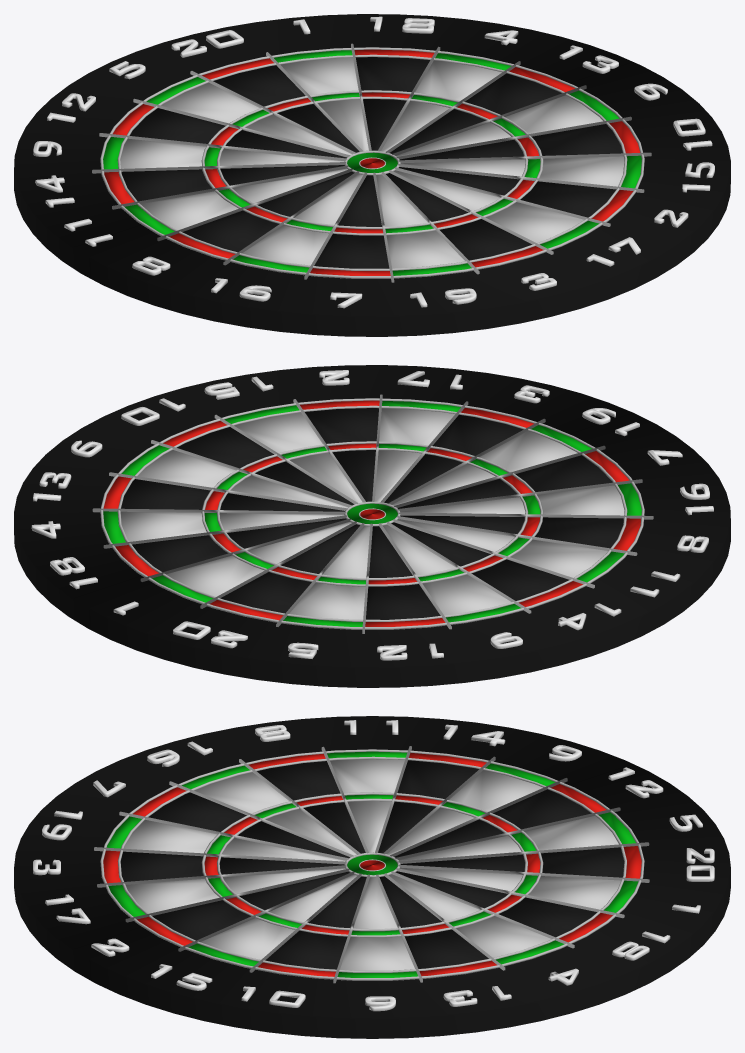
File: dartboard.glb
3 views of the same model, one above another, from view 1: azimuth 30°, elevation 25°; view 2: azimuth 150°, elevation 25°; view 3: azimuth 270°, elevation 25° (orthographic).
Visible parts, largest first — view 1: Board, Spider, Spider_Doubles_Inner_Ring, Spider_Trebles_Outer_Ring, Singles_7_Outer, Singles_19_Outer, Singles_18_Outer, Singles_1_Outer, Singles_16_Outer, Singles_4_Outer, Singles_8_Outer, Singles_3_Outer (+34 smaller); view 2: Board, Spider, Spider_Doubles_Inner_Ring, Spider_Trebles_Outer_Ring, Singles_12_Outer, Singles_5_Outer, Singles_17_Outer, Singles_2_Outer, Singles_9_Outer, Singles_20_Outer, Singles_15_Outer, Singles_3_Outer (+34 smaller); view 3: Board, Spider, Spider_Doubles_Inner_Ring, Spider_Trebles_Outer_Ring, Singles_6_Outer, Singles_10_Outer, Singles_11_Outer, Singles_13_Outer, Singles_14_Outer, Singles_8_Outer, Singles_15_Outer, Singles_4_Outer (+34 smaller).
Boxes of the visible parts, x1,y1,x2,y2 form: Board: (14,14,730,336); Spider: (92,43,651,282); Spider_Doubles_Inner_Ring: (117,54,627,270); Spider_Trebles_Outer_Ring: (201,90,543,235); Singles_7_Outer: (314,233,389,268); Singles_19_Outer: (386,230,464,268); Singles_18_Outer: (355,57,430,91); Singles_1_Outer: (280,57,358,95); Singles_16_Outer: (242,225,329,265); Singles_4_Outer: (415,60,501,100); Singles_8_Outer: (182,210,279,252); Singles_3_Outer: (440,219,531,260); Board: (14,365,730,687); Spider: (92,394,653,633); Spider_Doubles_Inner_Ring: (117,405,627,621); Spider_Trebles_Outer_Ring: (201,441,543,586); Singles_12_Outer: (366,584,440,619); Singles_5_Outer: (289,583,365,619); Singles_17_Outer: (379,408,454,445); Singles_2_Outer: (305,408,378,443); Singles_9_Outer: (423,574,511,615); Singles_20_Outer: (220,572,311,613); Singles_15_Outer: (234,412,322,453); Singles_3_Outer: (432,414,523,455); Board: (14,716,730,1038); Spider: (94,746,649,983); Spider_Doubles_Inner_Ring: (117,756,626,972); Spider_Trebles_Outer_Ring: (201,792,543,937); Singles_6_Outer: (340,936,414,970); Singles_10_Outer: (265,930,347,969); Singles_11_Outer: (330,759,404,793); Singles_13_Outer: (404,929,488,968); Singles_14_Outer: (397,760,478,798); Singles_8_Outer: (257,761,340,800); Singles_15_Outer: (200,918,295,959); Singles_4_Outer: (456,916,551,957).
Bounding box in the file's own units: 9.9 × 0.3684 × 9.9.
